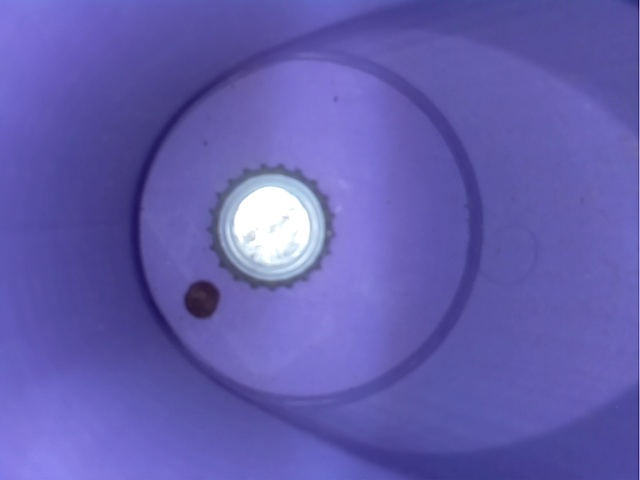capsule: (204, 147, 338, 300)
croquette: (171, 267, 222, 328)
